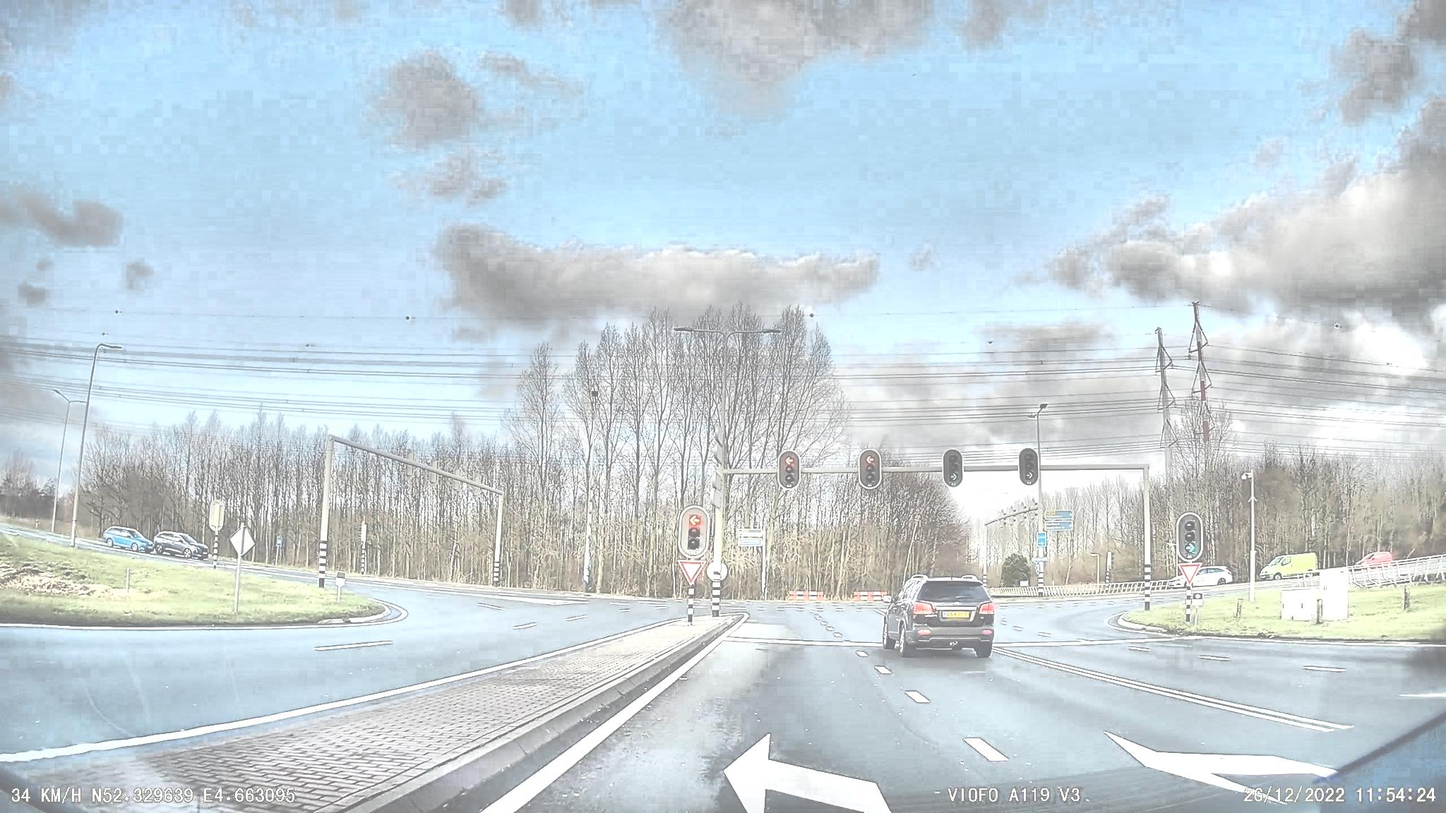Roads: (513, 595, 1446, 813), (0, 580, 694, 754)
